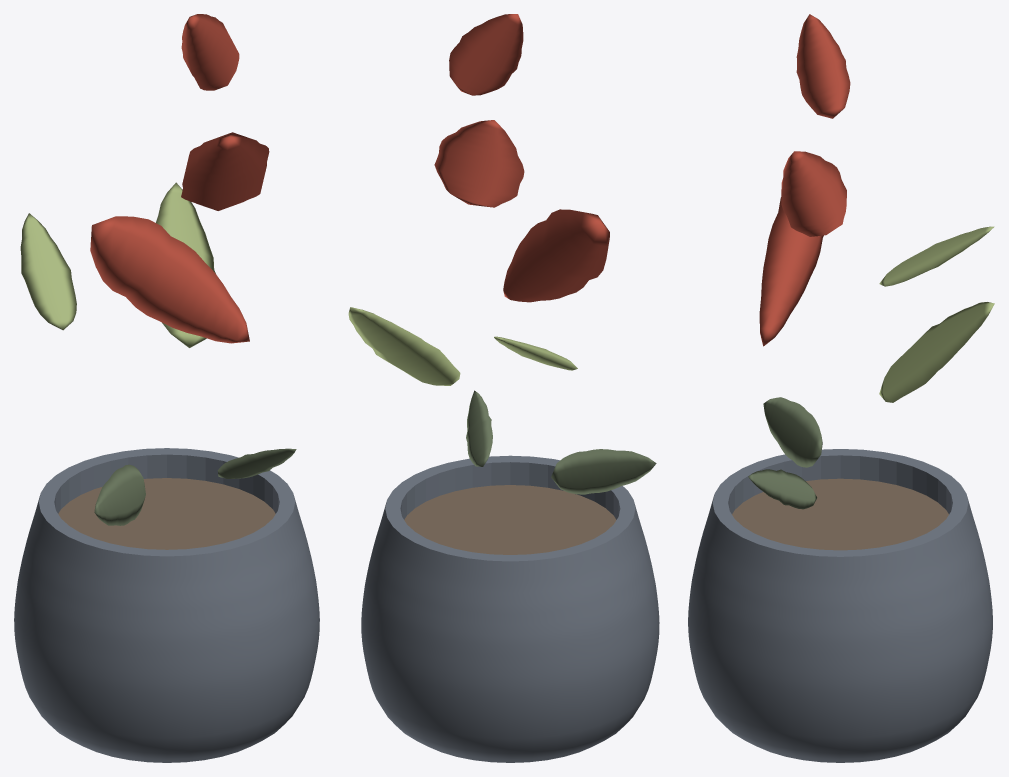
The model's file is NPR_25_1032__MOD__GardenFurniture__PlantersAndPots__PottedPlantGrey__Var-02__.glb.
3 renders of one model, left to right at view 1: azimuth 30°, elevation 25°; view 2: azimuth 150°, elevation 25°; view 3: azimuth 270°, elevation 25°, orthographic. The views are drawn at different scales.
Parts seen in each view (by area): view 1: NPR_25_1032__MOD__GardenFurniture__PlantersAndPots__PottedPl; view 2: NPR_25_1032__MOD__GardenFurniture__PlantersAndPots__PottedPl; view 3: NPR_25_1032__MOD__GardenFurniture__PlantersAndPots__PottedPl.
Boxes of the visible parts, x1=… form: NPR_25_1032__MOD__GardenFurniture__PlantersAndPots__PottedPl: x1=14, y1=14, x2=319, y2=762; NPR_25_1032__MOD__GardenFurniture__PlantersAndPots__PottedPl: x1=348, y1=14, x2=659, y2=762; NPR_25_1032__MOD__GardenFurniture__PlantersAndPots__PottedPl: x1=688, y1=14, x2=994, y2=762.
Size of the model in its own units: 0.3556 by 0.9087 by 0.3578.
